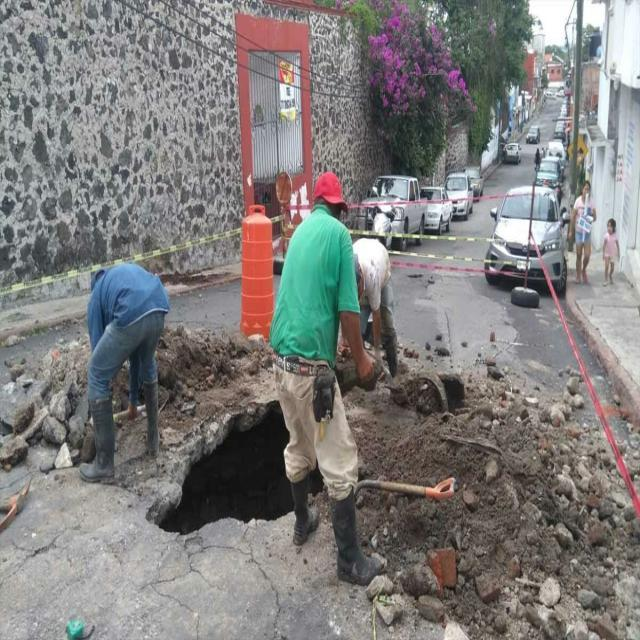pothole: (150, 364, 366, 621)
